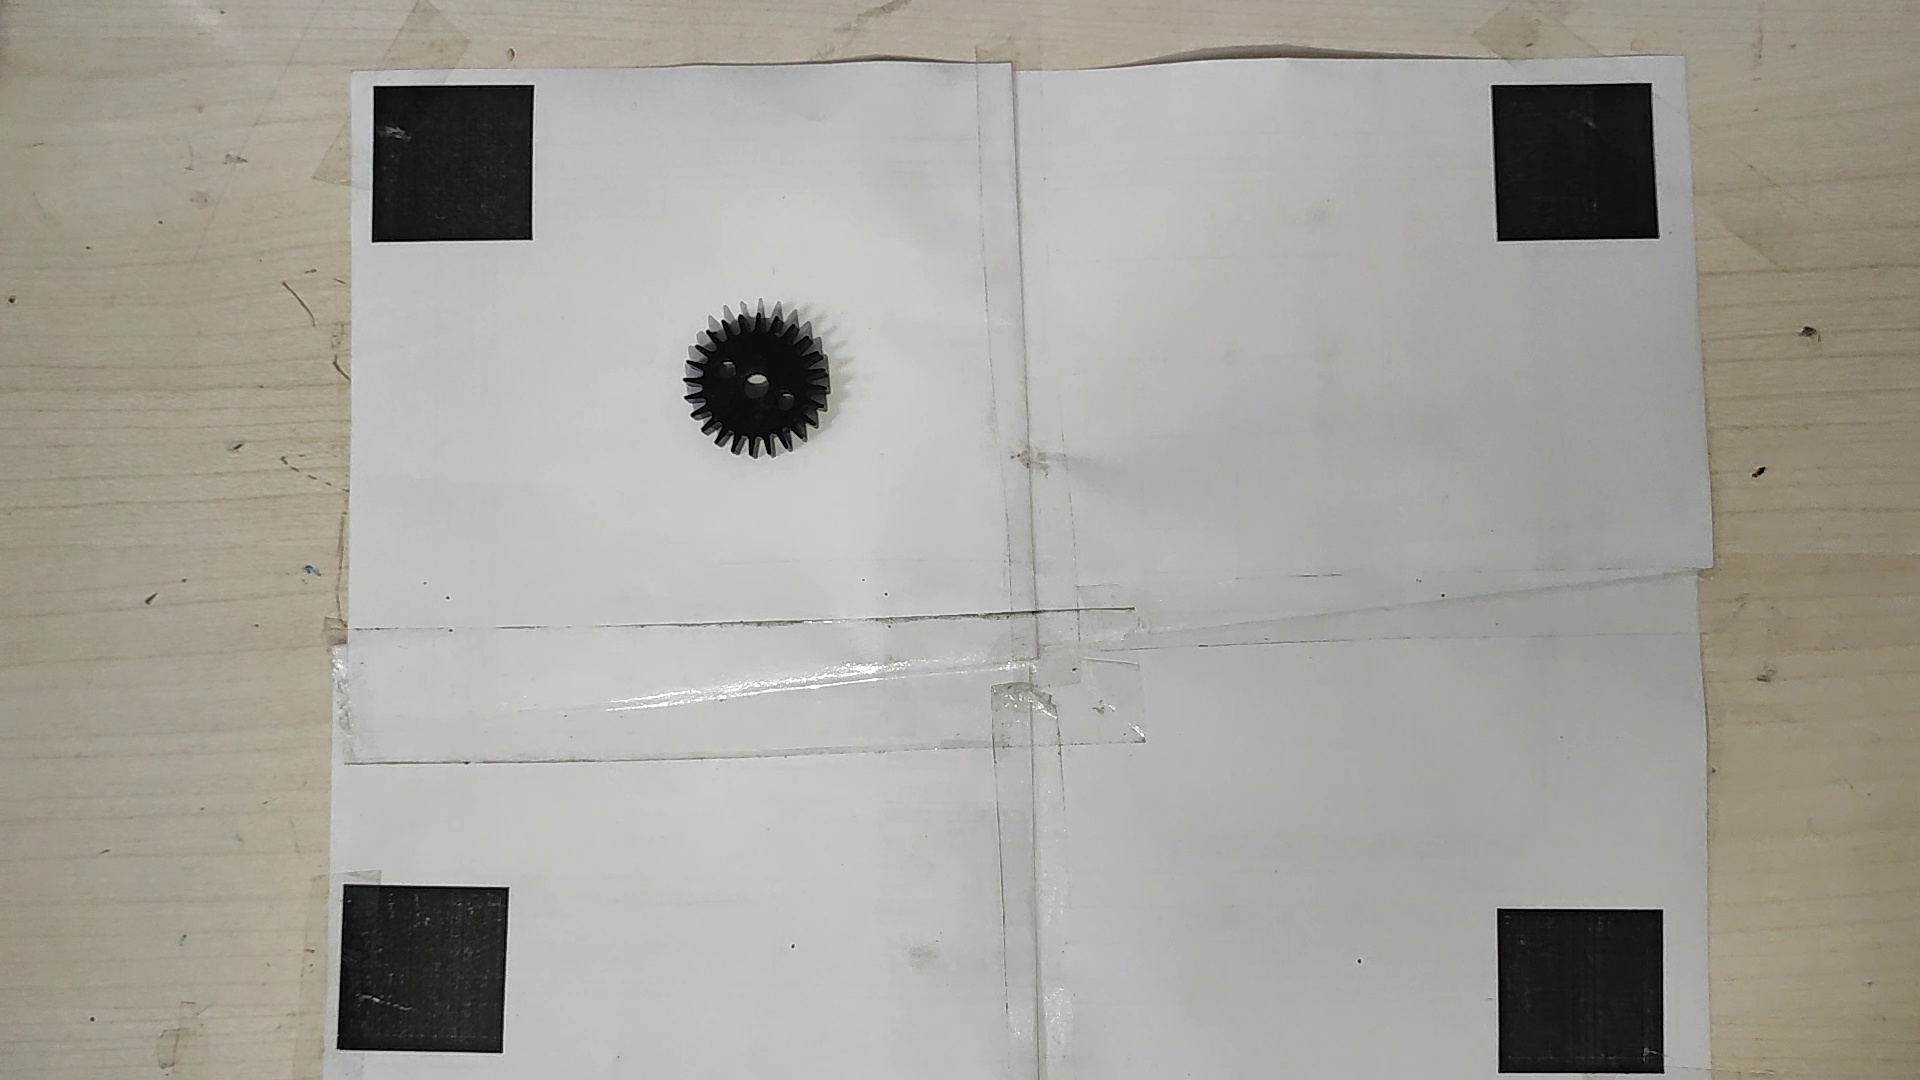Gear: (674, 305, 836, 464)
